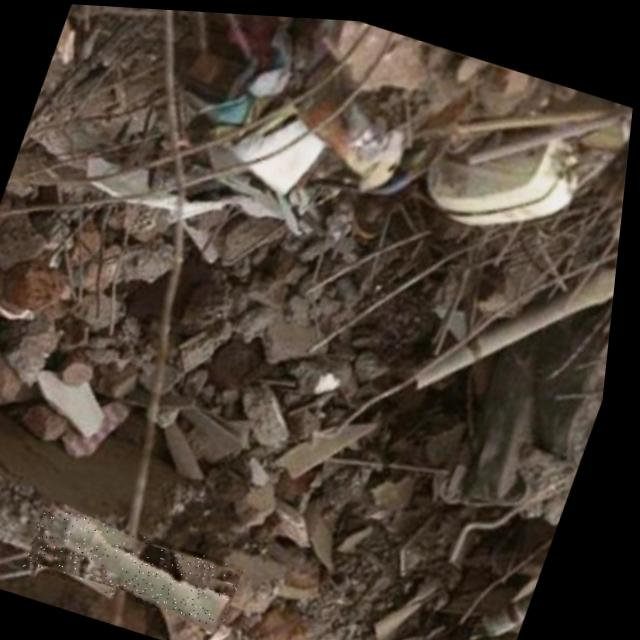Person in Rubble: (30, 502, 259, 626)
